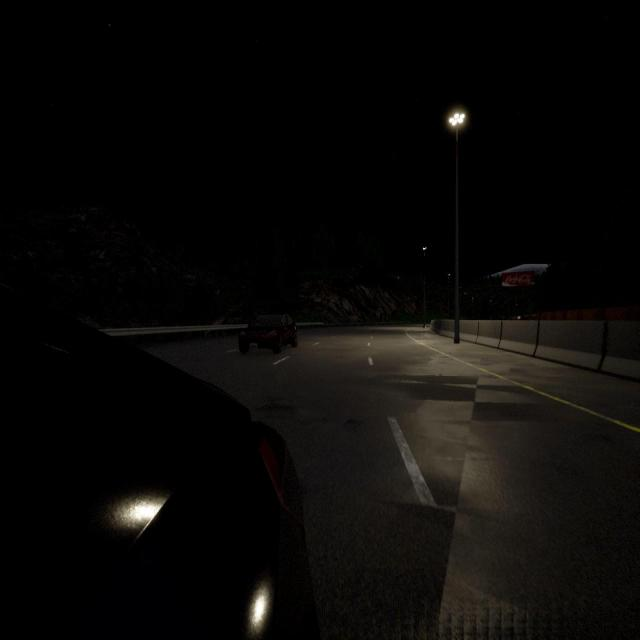Traffic_Signs: (518, 316, 520, 320)
Vehicle: (0, 288, 318, 640), (237, 311, 299, 356)
